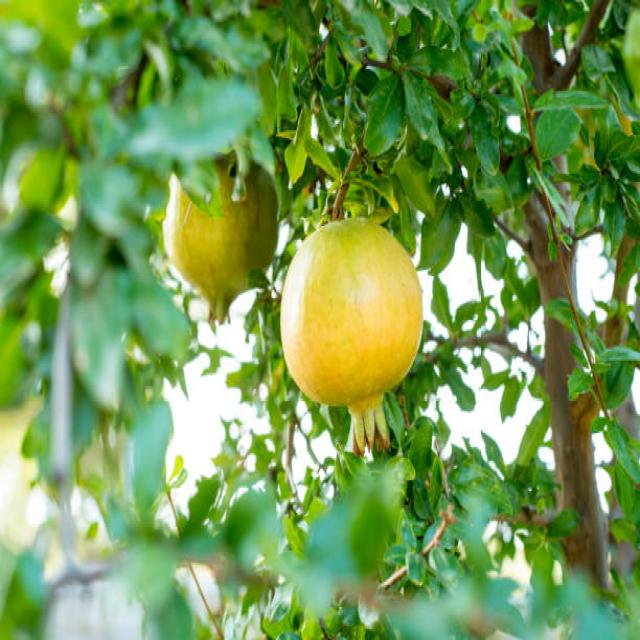Unripe: (282, 219, 422, 452)
